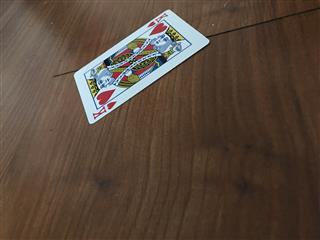KingOfHearts: (72, 8, 209, 124)
